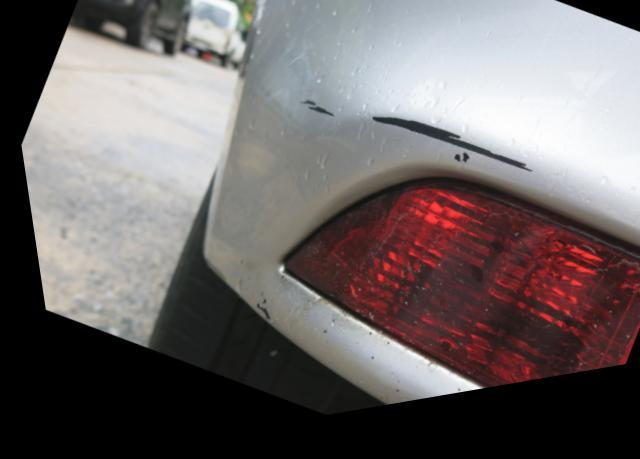scratch: (295, 107, 529, 192)
